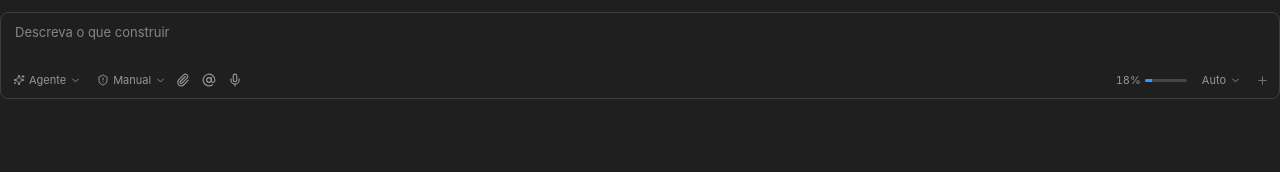
Test case: ChatInput › restaura texto, anexo, modo e modelo de uma entrada histórica
This screenshot has width=1280, height=172.
Click the text box named "Mensagem para o agente" at (642, 40), box [11,15,1273,65]
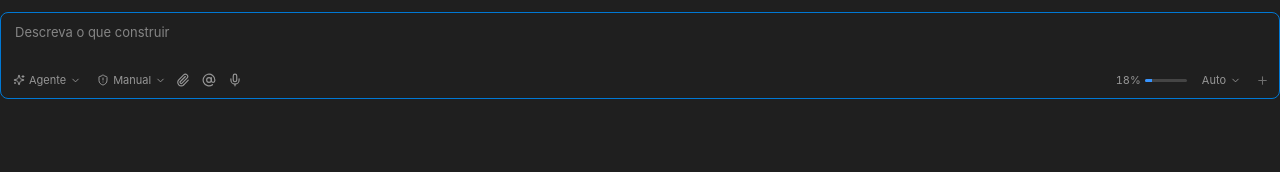
Press Arrowup
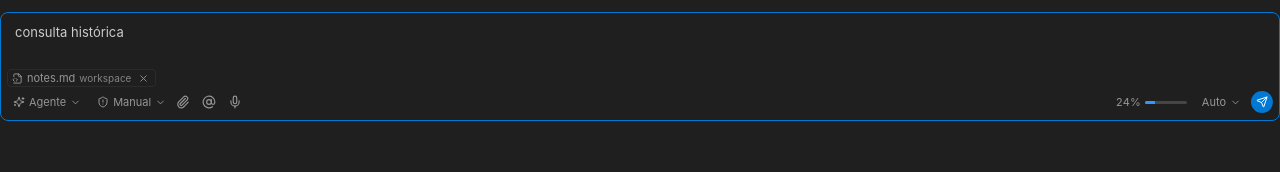
Check: the text box named "Mensagem para o agente" holds "consulta histórica", box [11,15,1273,65]
Check: the element named "notes.md, arquivo do workspace" is shown, box [7,69,156,87]
